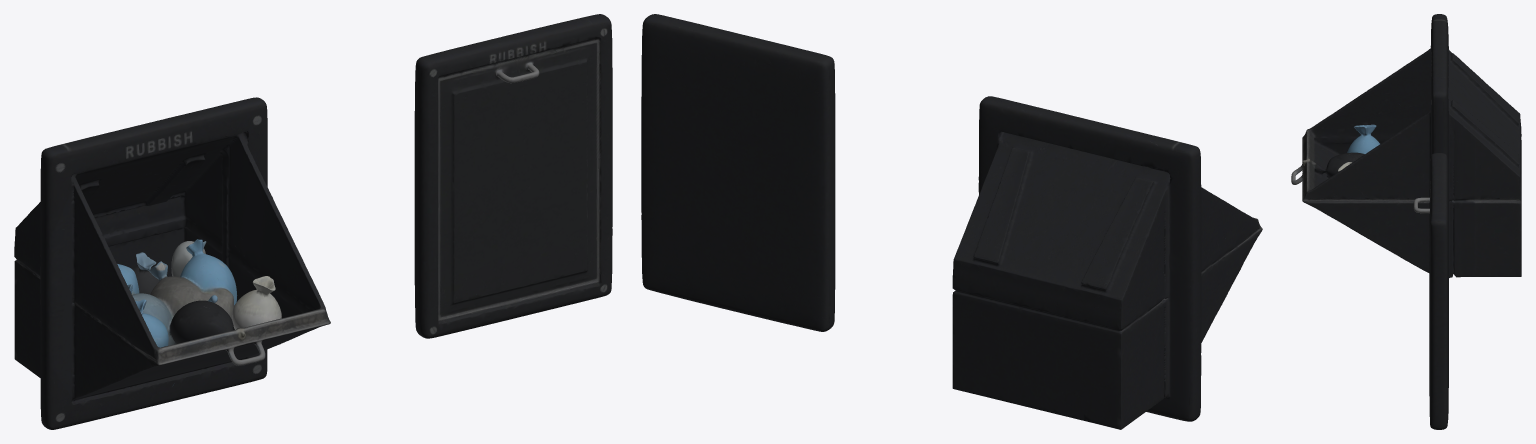
The model's file is Papelera.glb.
The picture shows the model from 3 angles, left to right: view 1: azimuth 30°, elevation 25°; view 2: azimuth 150°, elevation 25°; view 3: azimuth 270°, elevation 25°; orthographic projection. The views are drawn at different scales.
Bounding box in the file's own units: 1.9 × 0.8942 × 0.8817.
Materials: 1 (1 with a texture image).
